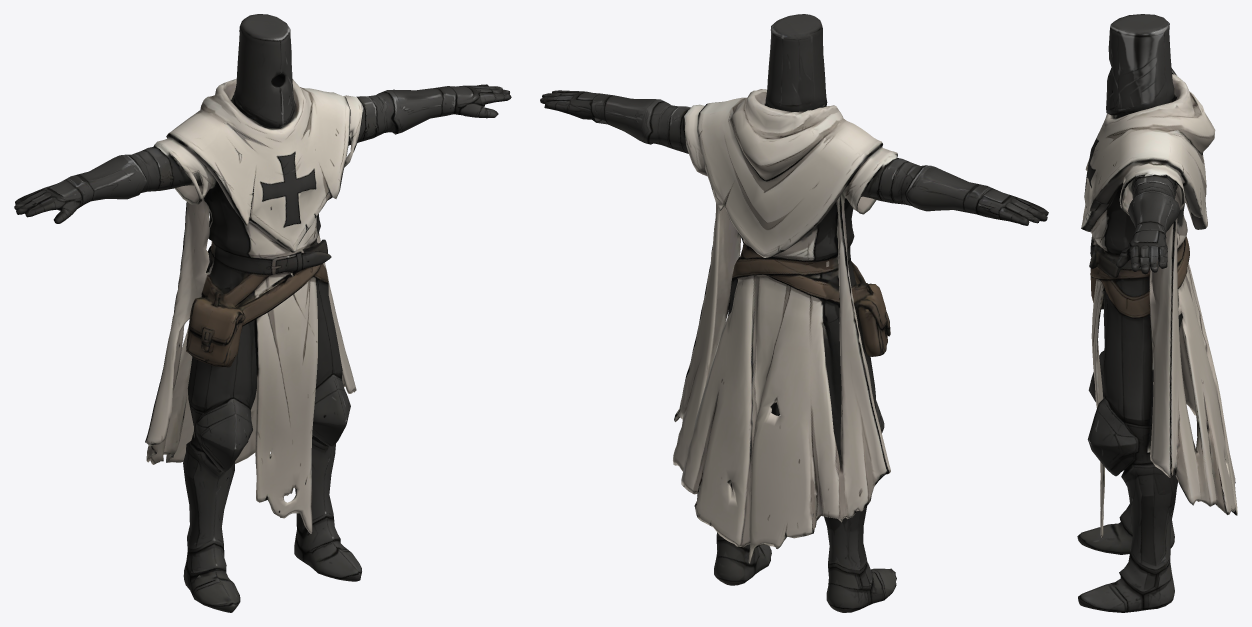
3 views of the same model, side by side, from view 1: azimuth 30°, elevation 25°; view 2: azimuth 150°, elevation 25°; view 3: azimuth 270°, elevation 25° (orthographic). The views are drawn at different scales.
Parts seen in each view (by area): view 1: tripo_node_d78bec53-b01c-4e86-a480-21c6d38a9ff7; view 2: tripo_node_d78bec53-b01c-4e86-a480-21c6d38a9ff7; view 3: tripo_node_d78bec53-b01c-4e86-a480-21c6d38a9ff7.
Part boxes in pixels (x1=…): tripo_node_d78bec53-b01c-4e86-a480-21c6d38a9ff7: x1=14, y1=14, x2=511, y2=612; tripo_node_d78bec53-b01c-4e86-a480-21c6d38a9ff7: x1=540, y1=14, x2=1048, y2=612; tripo_node_d78bec53-b01c-4e86-a480-21c6d38a9ff7: x1=1077, y1=14, x2=1237, y2=612.
Size of the model in its own units: 0.9141 by 0.9774 by 0.2562.
Materials: 1 (1 with a texture image).
